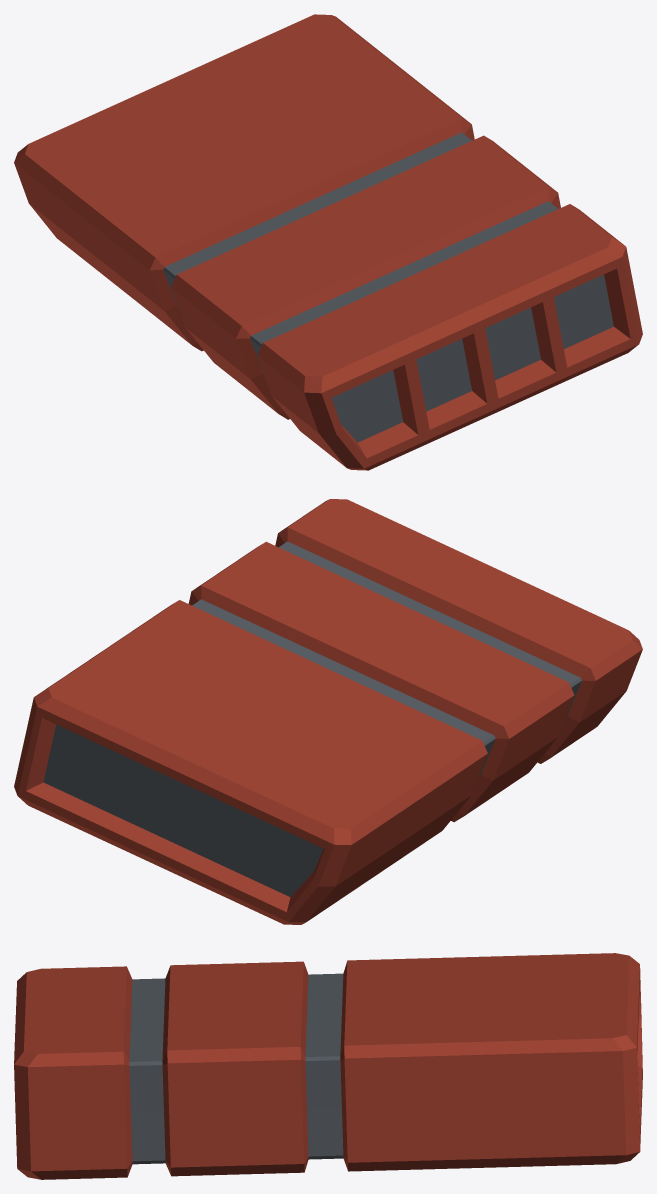
Rendered from Dropship_01_Artillery_Left_Red.fbx.
The picture shows the model from 3 angles, top to bottom: view 1: azimuth 30°, elevation 25°; view 2: azimuth 150°, elevation 25°; view 3: azimuth 270°, elevation 25°; orthographic projection. The views are drawn at different scales.
Visible parts, largest first — view 1: Dropship_01_Artillery_Left_Red; view 2: Dropship_01_Artillery_Left_Red; view 3: Dropship_01_Artillery_Left_Red.
Boxes of the visible parts, x1,y1,x2,y2 form: Dropship_01_Artillery_Left_Red: (14, 14, 642, 470); Dropship_01_Artillery_Left_Red: (14, 499, 642, 924); Dropship_01_Artillery_Left_Red: (14, 953, 642, 1179).
Bounding box in the file's own units: 362 × 192 × 568.
1 material, 1 textured.
